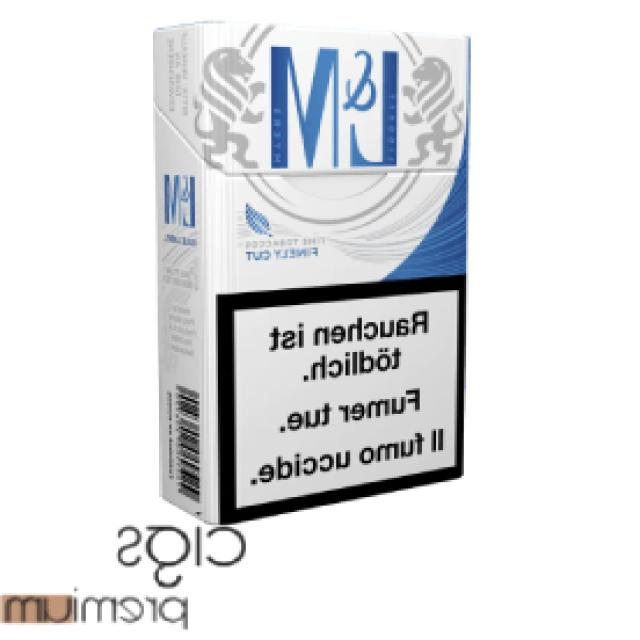lm: (155, 21, 482, 526)
